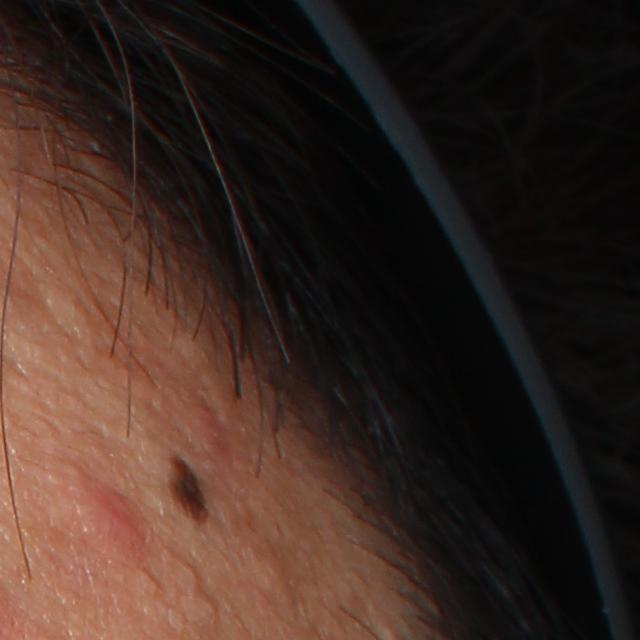nevus: (169, 452, 210, 521)
papule: (68, 471, 150, 556)
